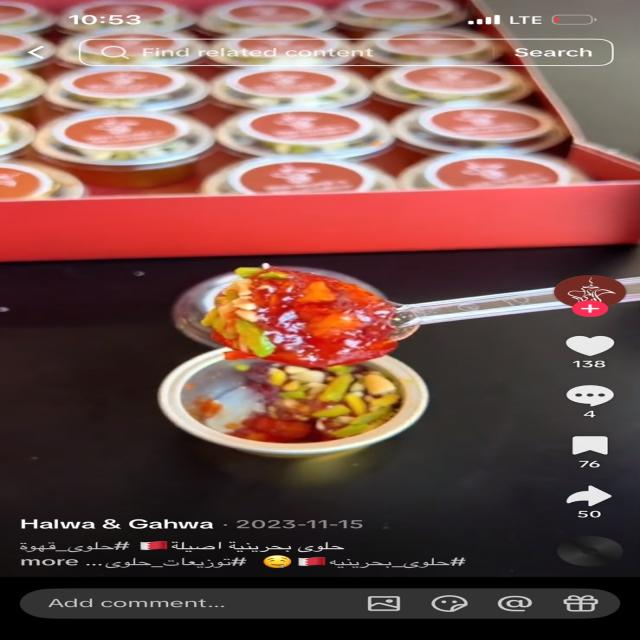Halwa: (148, 260, 424, 452)
